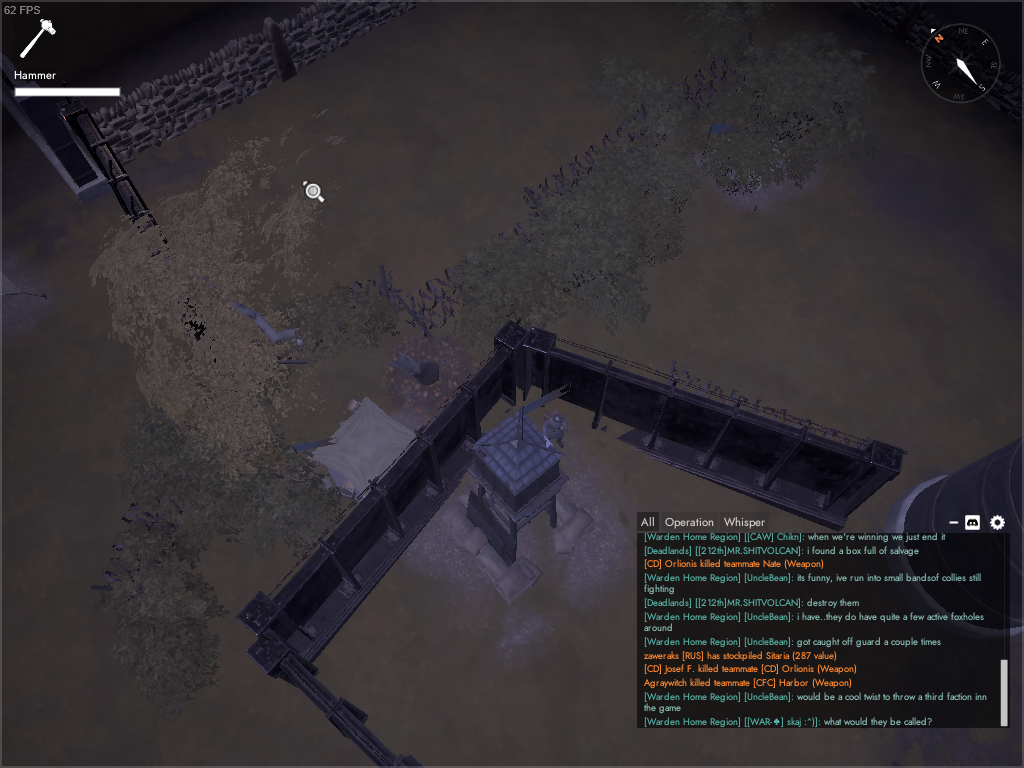fortified_wall: (235, 318, 535, 665), (517, 321, 910, 532), (240, 628, 430, 768), (1, 47, 114, 207)
foxhole: (287, 383, 426, 514), (688, 114, 825, 220)
player: (540, 411, 570, 457)
watchtower: (438, 380, 599, 609)
wire: (164, 264, 407, 415), (91, 400, 211, 618), (392, 198, 579, 337), (482, 204, 679, 328), (516, 87, 687, 215), (699, 70, 870, 195), (619, 29, 771, 154)
